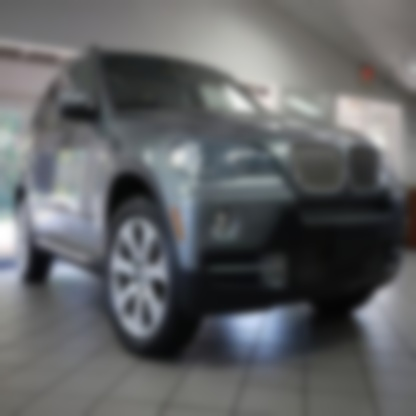Vehicle: (8, 37, 415, 369)
